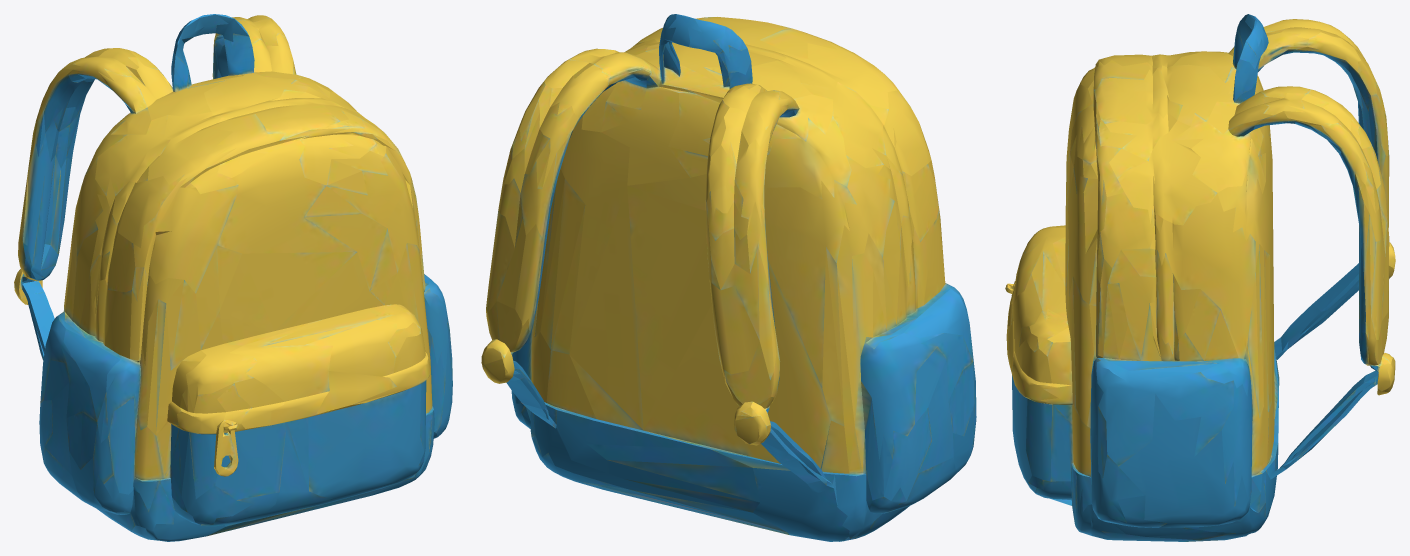
Rendered from backpack.glb.
3 renders of one model, left to right at view 1: azimuth 30°, elevation 25°; view 2: azimuth 150°, elevation 25°; view 3: azimuth 270°, elevation 25°, orthographic. The views are drawn at different scales.
Visible parts, largest first — view 1: Mesh_0; view 2: Mesh_0; view 3: Mesh_0.
Part boxes in pixels (left/top/right/bottom): Mesh_0: left=14, top=14, right=452, bottom=541; Mesh_0: left=481, top=14, right=976, bottom=541; Mesh_0: left=1005, top=14, right=1395, bottom=541.
Size of the model in its own units: 0.2976 by 0.35 by 0.2685.
Materials: 1 (1 with a texture image).
